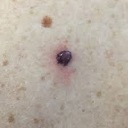Melanoma: (53, 49, 74, 66)
